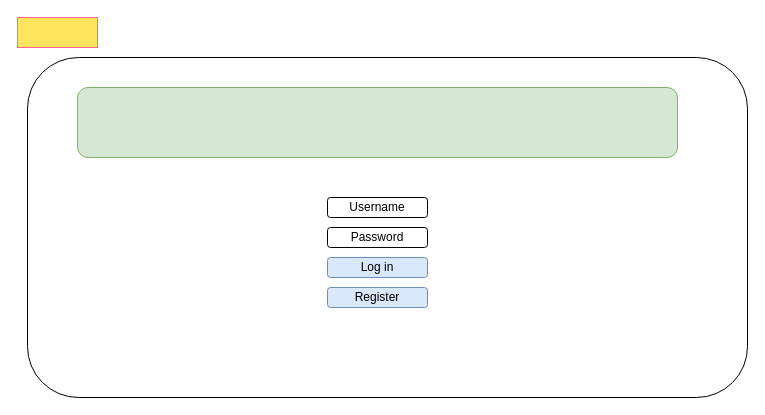
The diagram is 765 pixels wide and 415 high, and some of its shapes have lost their labels. The centre of each missing label's shape, as x and y in pixels:
Banner: [377,122]
Login Page: [57,32]
